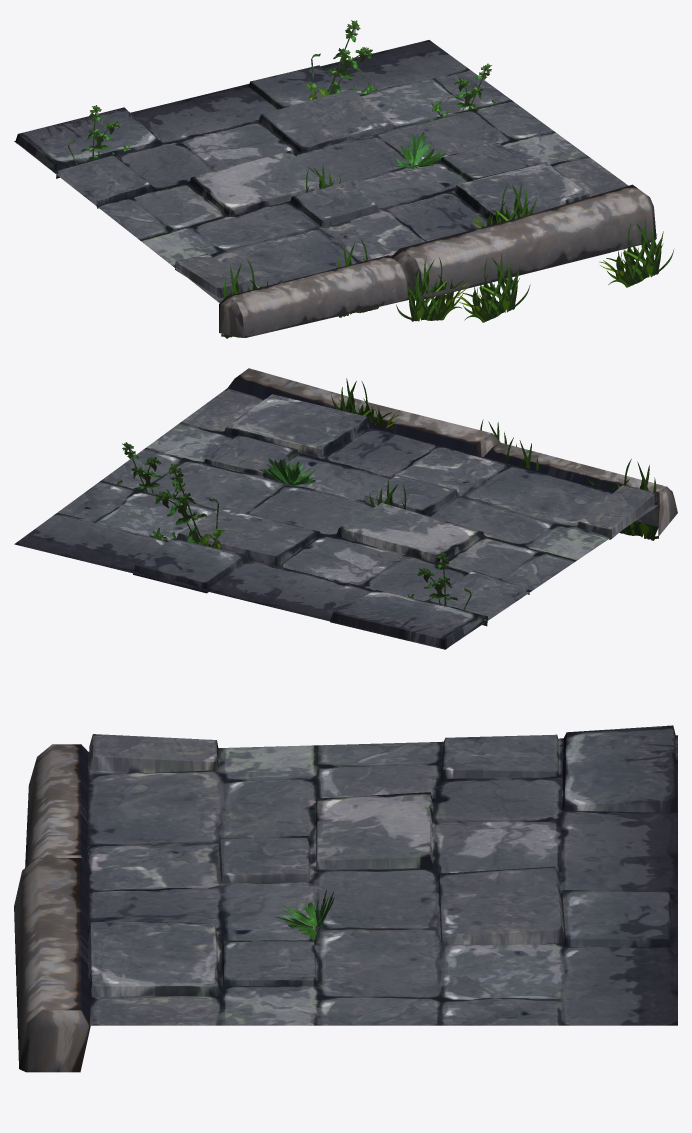
Rendered from Pavement Half.fbx.
3 renders of one model, top to bottom at view 1: azimuth 30°, elevation 25°; view 2: azimuth 150°, elevation 25°; view 3: azimuth 270°, elevation 25°, orthographic. The views are drawn at different scales.
Visible parts, largest first — view 1: PavementStraight; view 2: PavementStraight; view 3: PavementStraight.
Part boxes in pixels (x1,y1,x2,y2): PavementStraight: (14, 20, 673, 338); PavementStraight: (14, 368, 677, 649); PavementStraight: (14, 725, 677, 1072).
Bounding box in the file's own units: 195 × 65.71 × 180.
